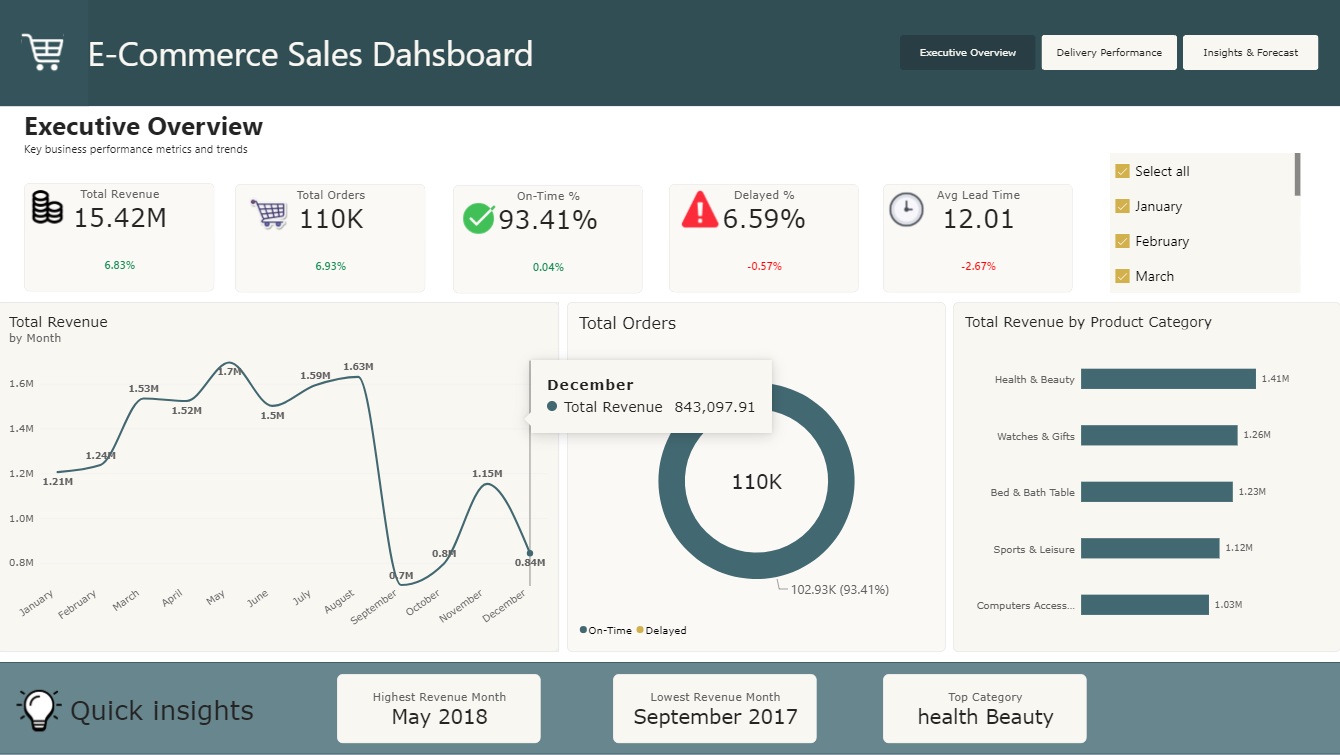

This screenshot's page, from the dashboard's own definition file:
{"tool":"powerbi","page":{"name":"Executive Overview","canvas":[1920,1080],"ordinal":0},"visuals":[{"type":"cardVisual","fields":{"Data":["olist_supply_chain_cleaned.Avg Lead Time"]},"box":[1265.3,264.3,271,155.3],"z":0,"group":"g1"},{"type":"lineChart","fields":{"Category":["olist_supply_chain_cleaned.order_purchase_timestamp.Variation.Date Hierarchy.Month"],"Y":["olist_supply_chain_cleaned.Total Revenue"]},"box":[0,433.3,802.9,499.6],"z":0},{"type":"cardVisual","fields":{"Data":["olist_supply_chain_cleaned.On-Time %"]},"box":[651.4,265.2,271.7,155.3],"z":1000},{"type":"donutChart","title":"Total Orders","fields":{"Category":["olist_supply_chain_cleaned.Order Status"],"Y":["olist_supply_chain_cleaned.Total Orders"]},"box":[814.3,432.9,541.4,500],"z":1000},{"type":"cardVisual","fields":{"Data":["olist_supply_chain_cleaned.Delayed %"]},"box":[960,263.9,271.7,155.3],"z":2000},{"type":"slicer","fields":{"Values":["olist_supply_chain_cleaned.order_purchase_timestamp.Variation.Date Hierarchy.Month"]},"box":[1589.6,219.4,272.2,200.4],"z":4000},{"type":"clusteredBarChart","title":"Total Revenue by Product Category","fields":{"Category":["olist_supply_chain_cleaned.Product Category"],"Y":["olist_supply_chain_cleaned.Total Revenue"]},"box":[1366.2,433.3,553.8,499.6],"z":5000},{"type":"group","id":"g1","title":"Group 11","box":[1254.3,264.3,282.9,154.3],"z":6000},{"type":"shape","box":[0,0,1920,152.7],"z":7000,"group":"g2"},{"type":"textbox","box":[17.1,77.1,670.2,109.7],"z":7000},{"type":"pageNavigator","box":[1249.8,36.2,639.1,66],"z":8000},{"type":"shape","box":[0,947.6,1920,132],"z":9000},{"type":"cardVisual","fields":{"Data":["olist_supply_chain_cleaned.Highest Revenue Month"]},"box":[486.2,964.6,291.5,99.3],"z":10000},{"type":"textbox","box":[104.8,991.1,282.3,49.7],"z":10000,"group":"g3"},{"type":"actionButton","box":[0,0,130.7,152.7],"z":11000,"group":"g2"},{"type":"cardVisual","fields":{"Data":["olist_supply_chain_cleaned.Total Orders"]},"box":[339.4,264,272.2,155.3],"z":11000},{"type":"cardVisual","fields":{"Data":["olist_supply_chain_cleaned.Lowest Revenue Month"]},"box":[879.6,964.6,291.5,99.3],"z":12000},{"type":"cardVisual","fields":{"Data":["olist_supply_chain_cleaned.Total Revenue"]},"box":[38.6,262.9,272.2,155.3],"z":13000},{"type":"cardVisual","fields":{"Data":["olist_supply_chain_cleaned.Top Category"]},"box":[1265.7,964.3,291.5,99.3],"z":14000},{"type":"group","id":"g2","title":"Group 3","box":[0,0,1920,419.2],"z":15000,"group":"g3"},{"type":"group","id":"g3","title":"Group 5","box":[0,0,1920,1065.7],"z":15000},{"type":"pageNavigator","box":[1289.9,51.8,600,50],"z":16000},{"type":"group","id":"g4","title":"Group 4","box":[15.5,967.4,89.3,98.3],"z":16000,"group":"g3"},{"type":"actionButton","box":[15.5,967.4,89.3,98.3],"z":16001,"group":"g4"},{"type":"actionButton","box":[650.8,270.4,72.5,86.7],"z":16004},{"type":"actionButton","box":[1254.3,265.2,89.2,70.9],"z":16008,"group":"g1"},{"type":"group","id":"g5","title":"Group 2","box":[38.6,262.9,67.1,68.6],"z":17000},{"type":"actionButton","box":[343.3,270.5,88,72.1],"z":18000},{"type":"actionButton","box":[38.6,262.9,67.3,67.9],"z":18001,"group":"g5"},{"type":"textbox","box":[38.6,154.3,670,115.7],"z":19000},{"type":"actionButton","box":[960,266.2,89.3,68.1],"z":20000}]}

Visuals, with their boxes in screenshot pixels (x1, y1, x2, y2), scaled from the page's 1920x1080 canvas onto the 1340x755 screenshot:
cardVisual - olist_supply_chain_cleaned.Avg Lead Time: box=[883, 185, 1072, 293]
lineChart - olist_supply_chain_cleaned.order_purchase_timestamp.Variation.Date Hierarchy.Month x olist_supply_chain_cleaned.Total Revenue: box=[0, 303, 560, 652]
cardVisual - olist_supply_chain_cleaned.On-Time %: box=[455, 185, 644, 294]
"Total Orders" donutChart: box=[568, 303, 946, 652]
cardVisual - olist_supply_chain_cleaned.Delayed %: box=[670, 184, 860, 293]
slicer - olist_supply_chain_cleaned.order_purchase_timestamp.Variation.Date Hierarchy.Month: box=[1109, 153, 1299, 293]
"Total Revenue by Product Category" clusteredBarChart: box=[953, 303, 1339, 652]
"Group 11" group: box=[875, 185, 1073, 293]
shape: box=[0, 0, 1339, 107]
textbox: box=[12, 54, 480, 131]
pageNavigator: box=[872, 25, 1318, 71]
shape: box=[0, 662, 1339, 754]
cardVisual - olist_supply_chain_cleaned.Highest Revenue Month: box=[339, 674, 543, 744]
textbox: box=[73, 693, 270, 728]
actionButton: box=[0, 0, 91, 107]
cardVisual - olist_supply_chain_cleaned.Total Orders: box=[237, 185, 427, 293]
cardVisual - olist_supply_chain_cleaned.Lowest Revenue Month: box=[614, 674, 817, 744]
cardVisual - olist_supply_chain_cleaned.Total Revenue: box=[27, 184, 217, 292]
cardVisual - olist_supply_chain_cleaned.Top Category: box=[883, 674, 1087, 744]
"Group 3" group: box=[0, 0, 1339, 293]
"Group 5" group: box=[0, 0, 1339, 745]
pageNavigator: box=[900, 36, 1319, 71]
"Group 4" group: box=[11, 676, 73, 745]
actionButton: box=[11, 676, 73, 745]
actionButton: box=[454, 189, 505, 250]
actionButton: box=[875, 185, 938, 235]
"Group 2" group: box=[27, 184, 74, 232]
actionButton: box=[240, 189, 301, 240]
actionButton: box=[27, 184, 74, 231]
textbox: box=[27, 108, 495, 189]
actionButton: box=[670, 186, 732, 234]
